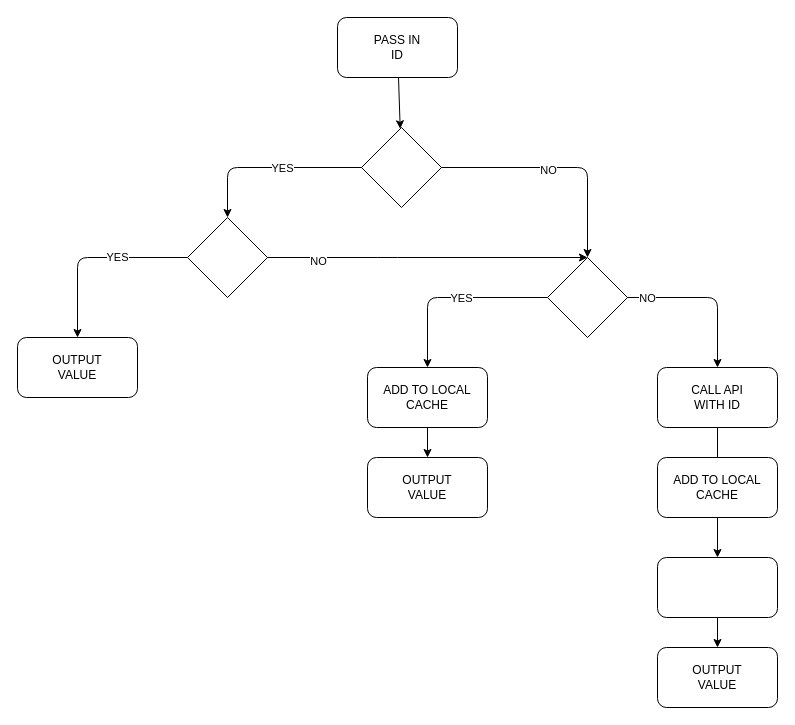
Image size: 795x725. Some labels were removed from this diagram. The shapes that lost their labels are listed below. From the top down, each one's centre as x and y in pixels, then its label:
At point (401, 167): "local cache exists".
At point (227, 257): "= ID".
At point (587, 297): "IN DYNAMO".
At point (717, 587): "ADD TO DYNAMO".
